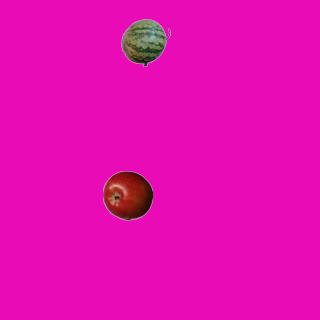Apple Braeburn: (102, 170, 152, 220)
Watermelon: (120, 17, 170, 67)
